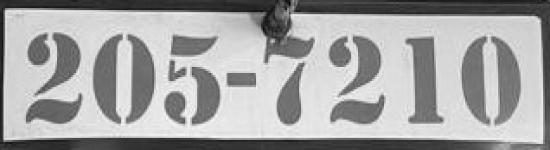-: (223, 63, 261, 100)
0: (451, 27, 529, 134), (87, 27, 160, 127)
1: (391, 32, 451, 130)
2: (319, 27, 392, 131), (17, 26, 87, 129)
5: (158, 24, 226, 130)
7: (264, 29, 320, 129)
